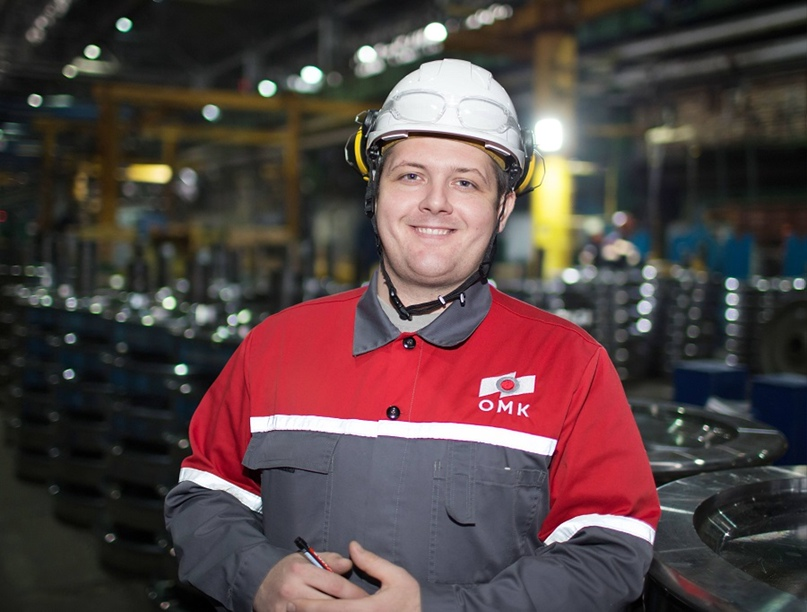person: (157, 59, 661, 612)
